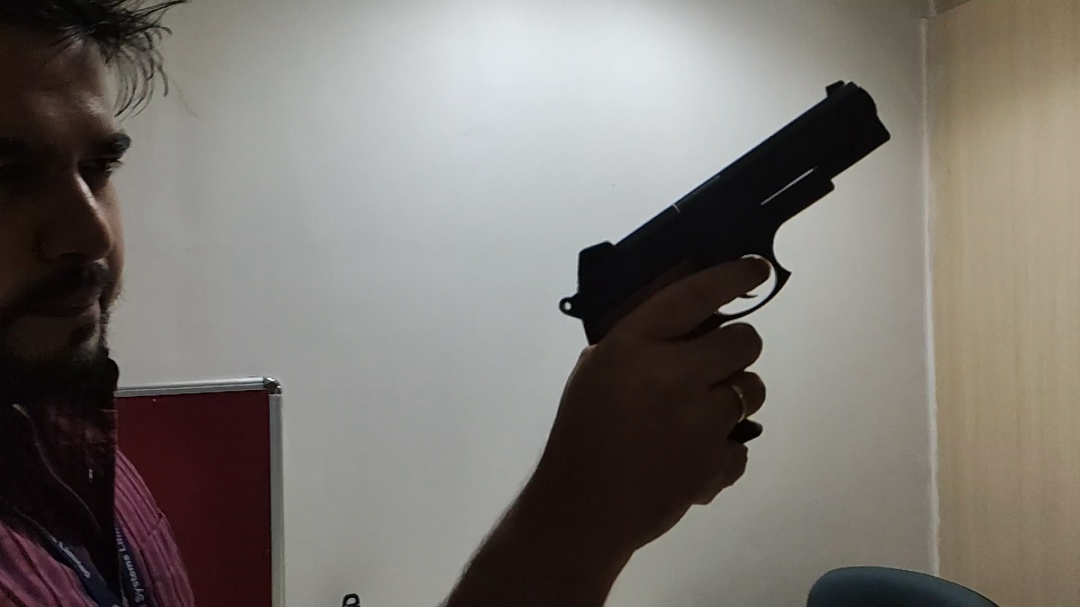gun: (558, 78, 896, 446)
